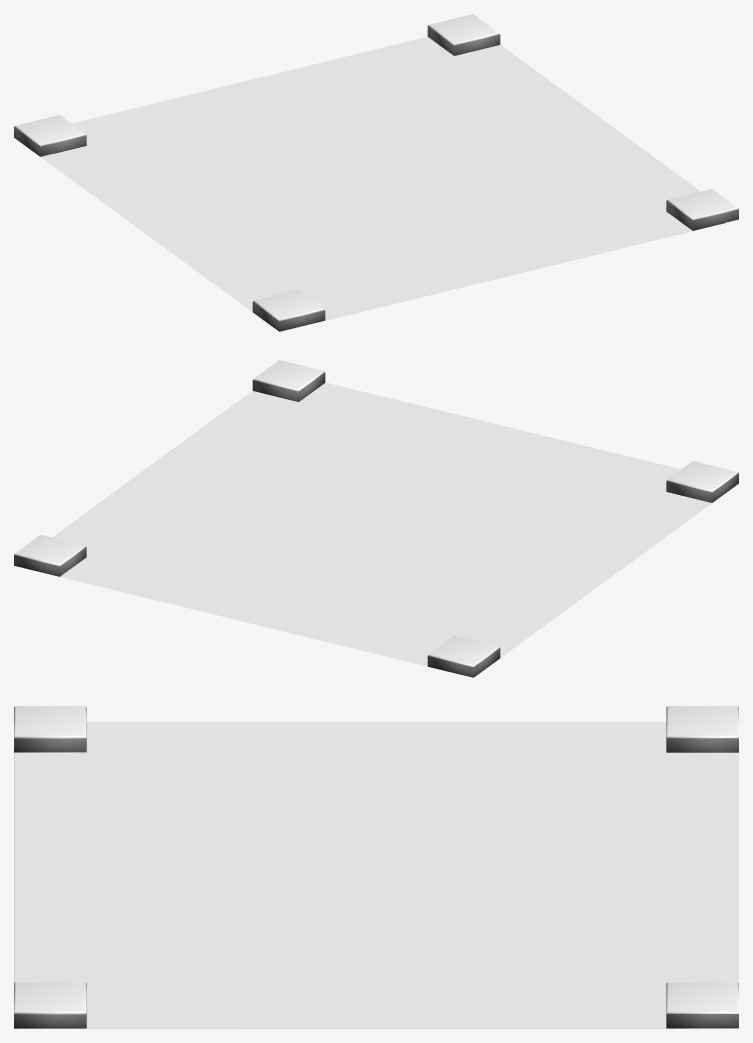
The model's file is buy-highlight.fbx.
3 renders of one model, top to bottom at view 1: azimuth 30°, elevation 25°; view 2: azimuth 150°, elevation 25°; view 3: azimuth 270°, elevation 25°, orthographic. The views are drawn at different scales.
Parts seen in each view (by area): view 1: Plane; view 2: Plane; view 3: Plane.
Boxes of the visible parts, bbox=[...] form: Plane: bbox=[14, 14, 738, 331]; Plane: bbox=[14, 360, 738, 677]; Plane: bbox=[14, 706, 738, 1028].
Bounding box in the file's own units: 400 × 10 × 400.
1 material, 1 textured.
